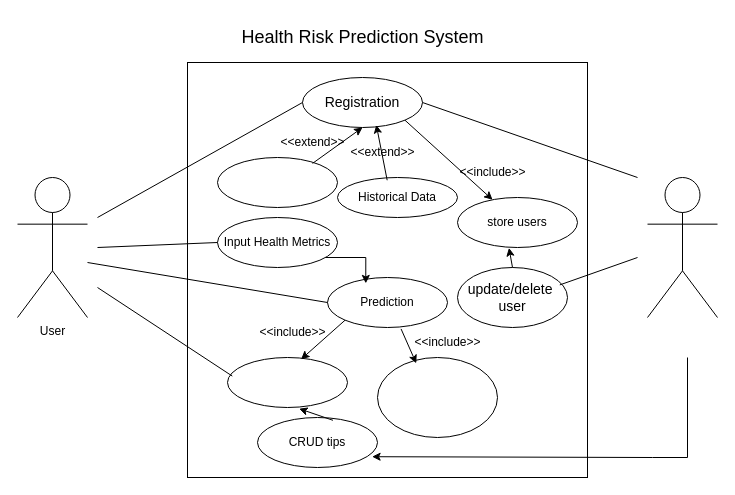
The diagram is 735 pixels wide and 495 high, and some of its shapes have lost their labels. Each missing label, with the centre of its shape:
Admin: the point at 682,247
ML Model: the point at 437,397
Profile: the point at 277,182
tips: the point at 287,382
